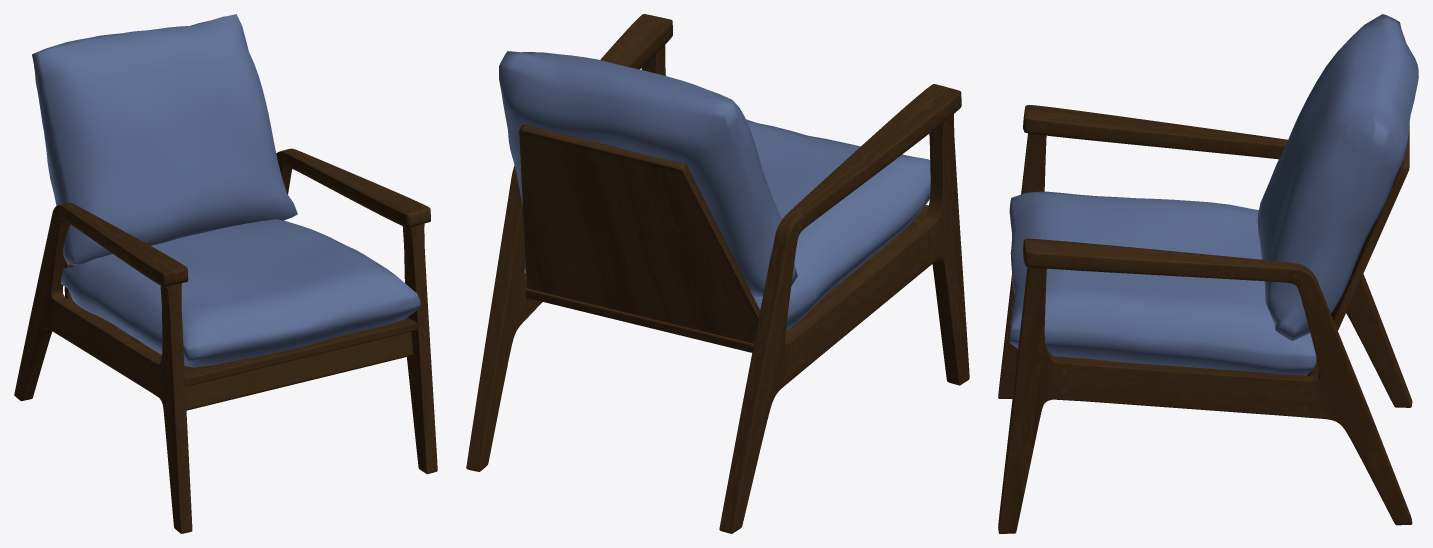
File: blue-walnut.glb
The picture shows the model from 3 angles, left to right: view 1: azimuth 30°, elevation 25°; view 2: azimuth 150°, elevation 25°; view 3: azimuth 270°, elevation 25°; orthographic projection. The views are drawn at different scales.
Visible parts, largest first — view 1: krosna; view 2: krosna; view 3: krosna.
Boxes of the visible parts, x1,y1,x2,y2 form: krosna: (14,14,437,533); krosna: (466,14,969,533); krosna: (998,14,1418,533).
Bounding box in the file's own units: 0.8203 × 1.02 × 0.9866.
2 materials, 1 textured.
